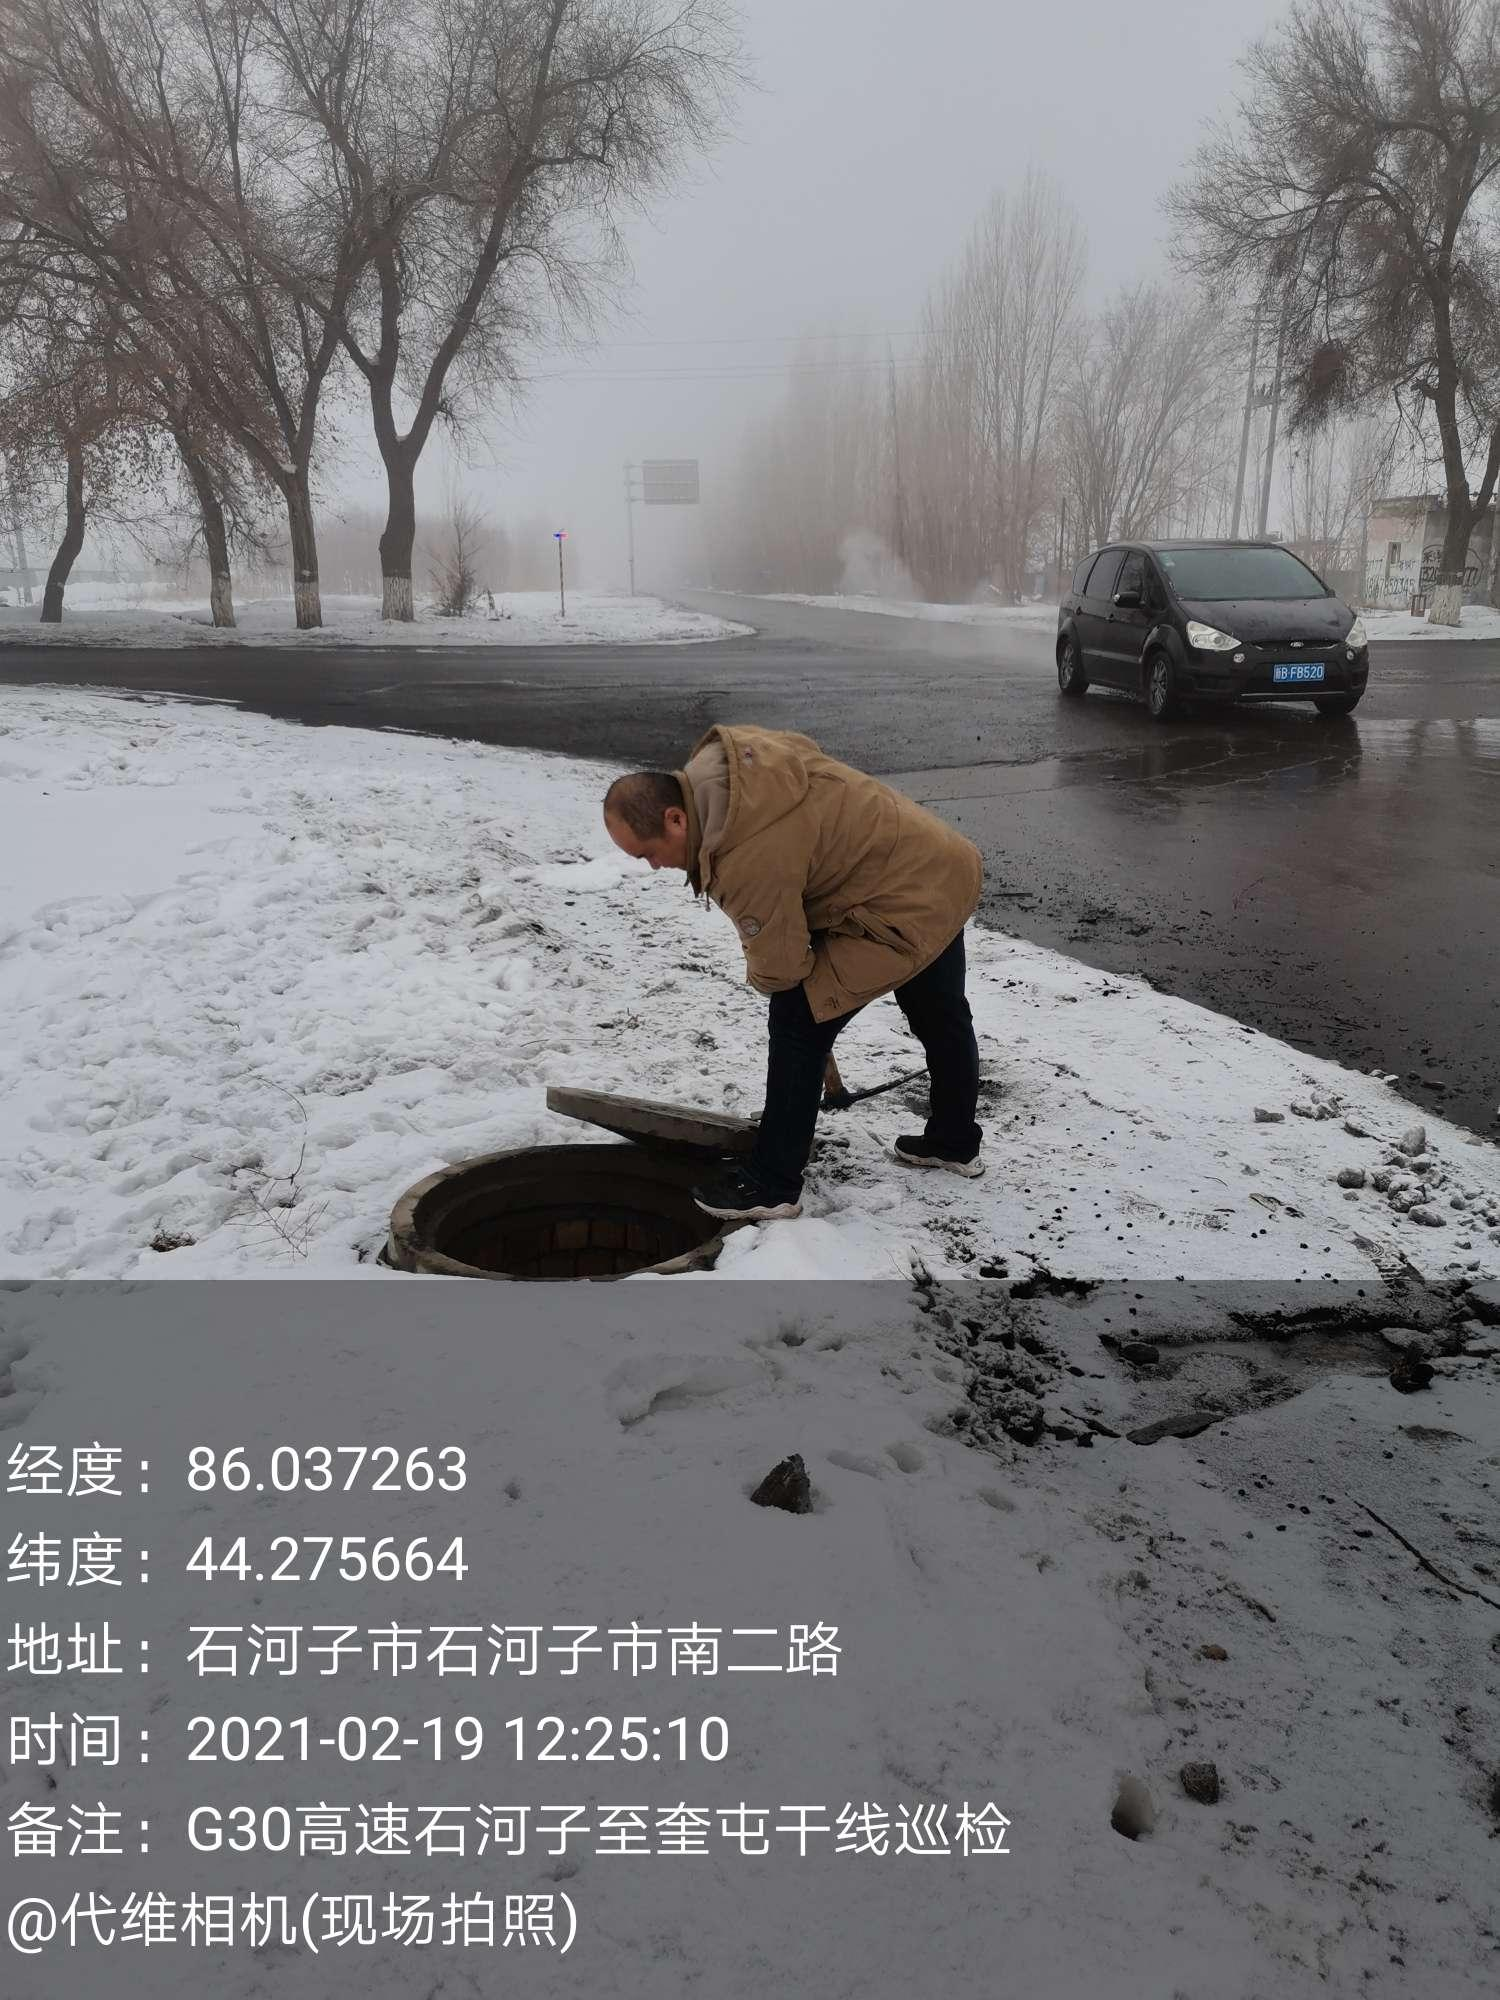wellcover: (312, 1036, 805, 1306)
